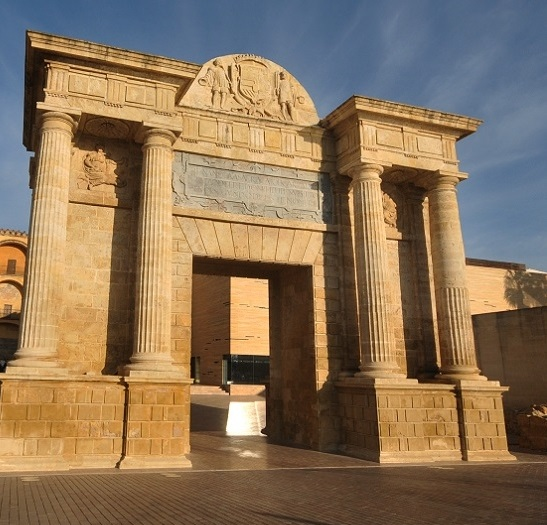vano-adintelado: (177, 240, 328, 452)
